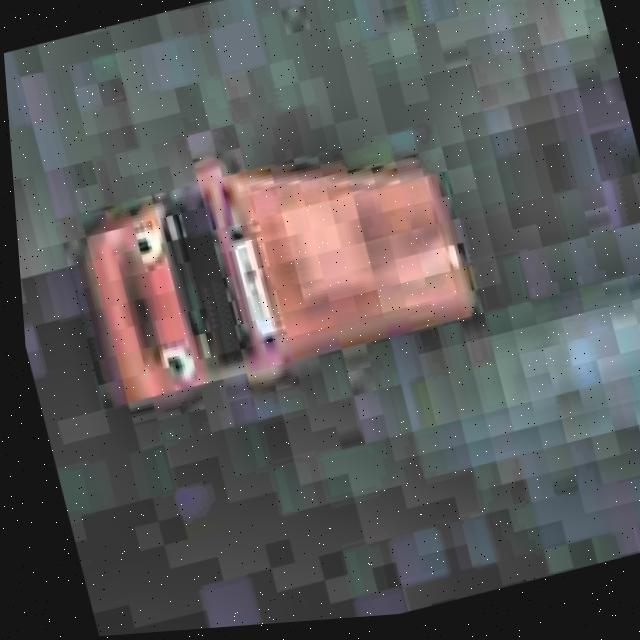bus: (32, 78, 505, 436)
